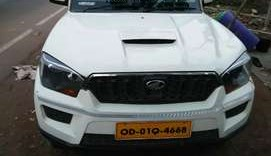OD01Q4668: (116, 121, 191, 138)
